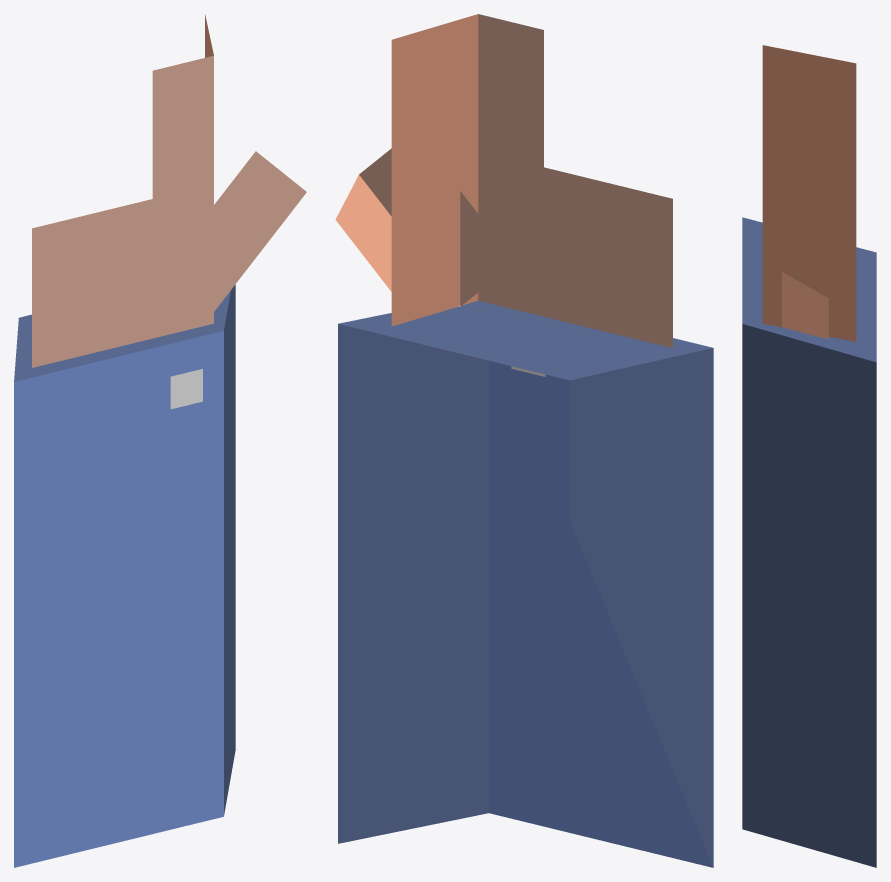
File: Tutorial_Object_01_L@Down.FBX
3 renders of one model, left to right at view 1: azimuth 30°, elevation 25°; view 2: azimuth 150°, elevation 25°; view 3: azimuth 270°, elevation 25°, orthographic. The views are drawn at different scales.
Parts seen in each view (by area): view 1: Tutorial_Object_01_L; view 2: Tutorial_Object_01_L; view 3: Tutorial_Object_01_L.
Boxes of the visible parts, bbox=[...] form: Tutorial_Object_01_L: bbox=[14, 14, 306, 867]; Tutorial_Object_01_L: bbox=[335, 14, 713, 867]; Tutorial_Object_01_L: bbox=[742, 45, 876, 867].
Bounding box in the file's own units: 7.25 × 16.74 × 2.6.
